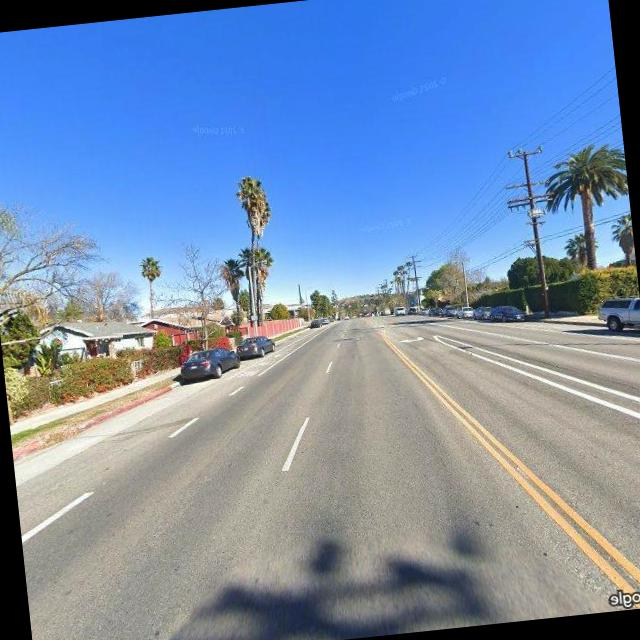pothole: (424, 420, 451, 470)
